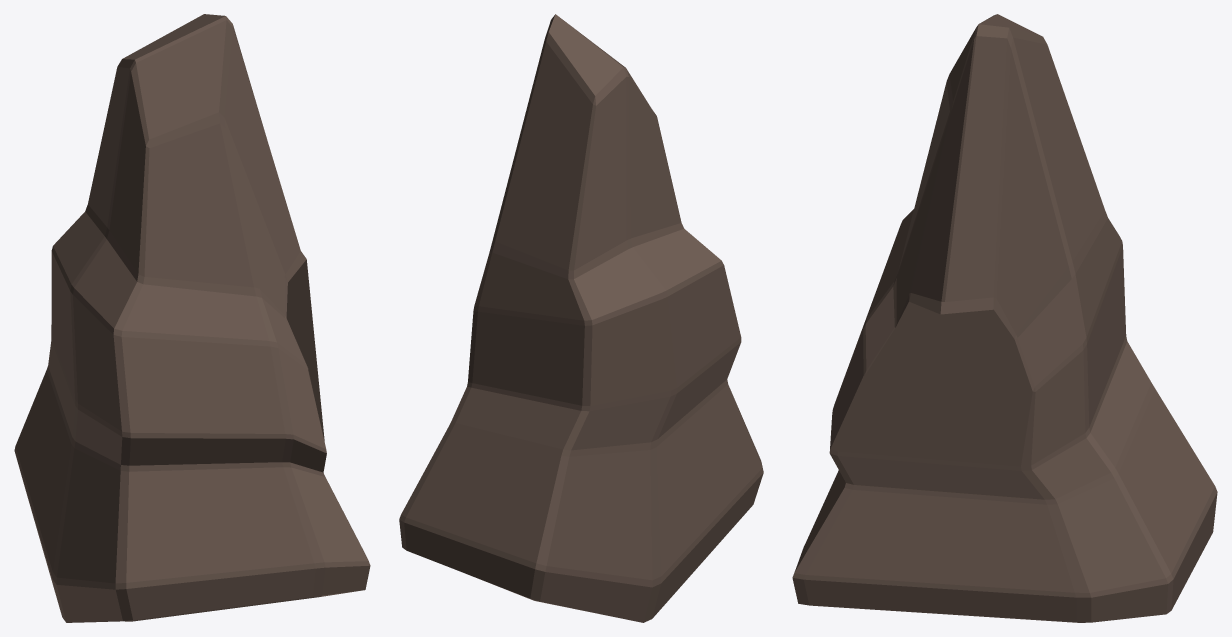
Rendered from rock4.fbx.
The picture shows the model from 3 angles, left to right: view 1: azimuth 30°, elevation 25°; view 2: azimuth 150°, elevation 25°; view 3: azimuth 270°, elevation 25°; orthographic projection. The views are drawn at different scales.
Parts seen in each view (by area): view 1: Rock3.001; view 2: Rock3.001; view 3: Rock3.001.
Boxes of the visible parts, bbox=[...] form: Rock3.001: bbox=[14, 14, 370, 622]; Rock3.001: bbox=[399, 14, 763, 622]; Rock3.001: bbox=[792, 14, 1217, 622].
Bounding box in the file's own units: 2615 × 5684 × 3495.
